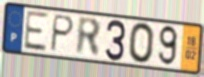3: (103, 18, 128, 63)
9: (157, 24, 180, 69)
E: (22, 9, 49, 53)
O: (128, 21, 156, 65)
P: (48, 13, 76, 54)
R: (75, 15, 102, 59)
